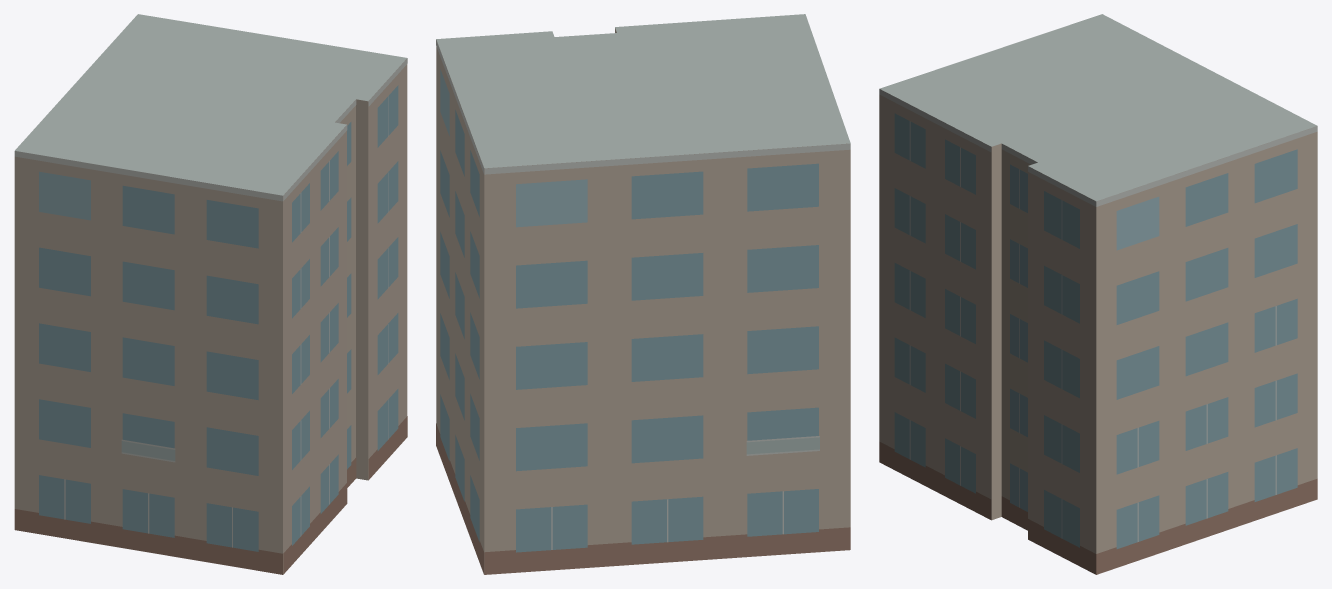
Rendered from survey-upis-32746240.glb.
3 views of the same model, side by side, from view 1: azimuth 30°, elevation 25°; view 2: azimuth 150°, elevation 25°; view 3: azimuth 270°, elevation 25° (orthographic). The views are drawn at different scales.
Visible parts, largest first — view 1: survey-upis-32746240.tmp; view 2: survey-upis-32746240.tmp; view 3: survey-upis-32746240.tmp.
Part boxes in pixels (<box>): survey-upis-32746240.tmp: <box>14,14,407,574</box>; survey-upis-32746240.tmp: <box>436,14,850,574</box>; survey-upis-32746240.tmp: <box>879,14,1317,574</box>.
Bounding box in the file's own units: 17.11 × 15.9 × 16.91.
